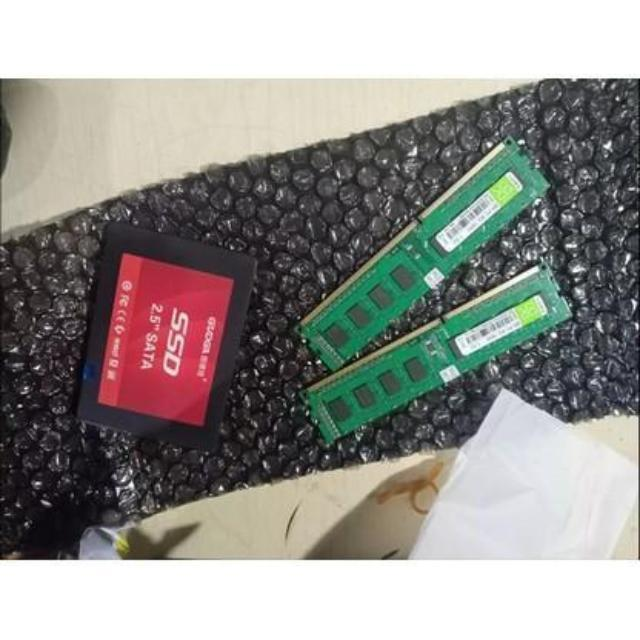DISK: (76, 216, 262, 458)
RAM: (300, 142, 578, 444)
